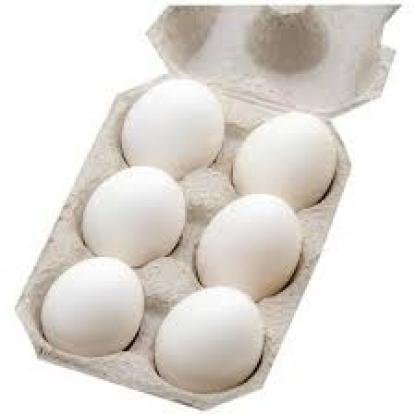egg: (193, 189, 303, 304), (155, 284, 266, 396), (38, 254, 149, 361), (121, 76, 226, 188), (80, 164, 190, 270), (233, 108, 340, 214)
